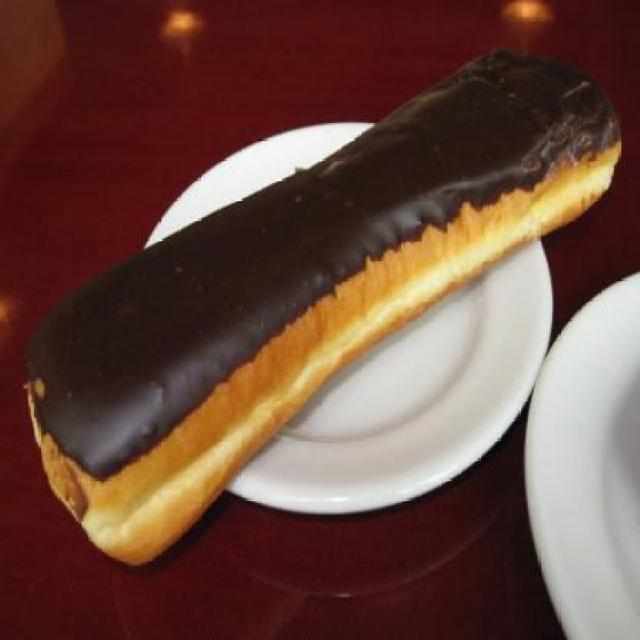Donuts: (10, 28, 632, 610)
